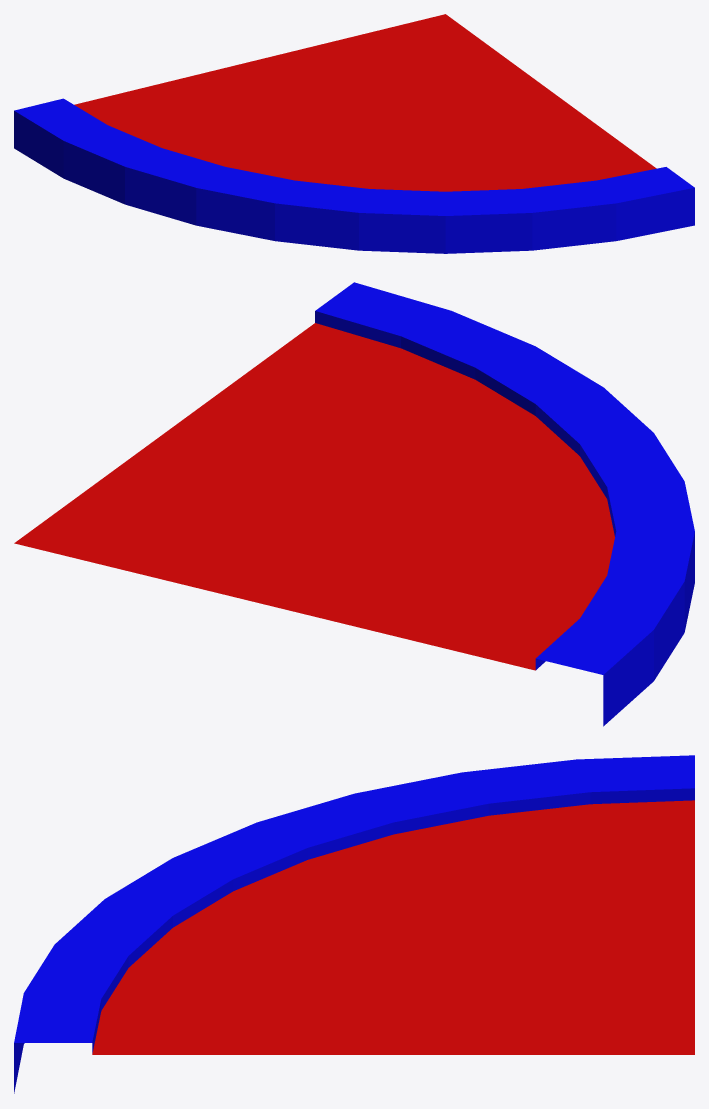
File: Pavement_Corner_Round.FBX
3 renders of one model, top to bottom at view 1: azimuth 30°, elevation 25°; view 2: azimuth 150°, elevation 25°; view 3: azimuth 270°, elevation 25°, orthographic. The views are drawn at different scales.
Visible parts, largest first — view 1: Pavement_Corner_Round; view 2: Pavement_Corner_Round; view 3: Pavement_Corner_Round.
Part boxes in pixels (x1,y1,x2,y2): Pavement_Corner_Round: [14, 14, 694, 253]; Pavement_Corner_Round: [14, 282, 694, 726]; Pavement_Corner_Round: [14, 755, 694, 1093].
Bounding box in the file's own units: 2.56 × 0.2141 × 2.56.
